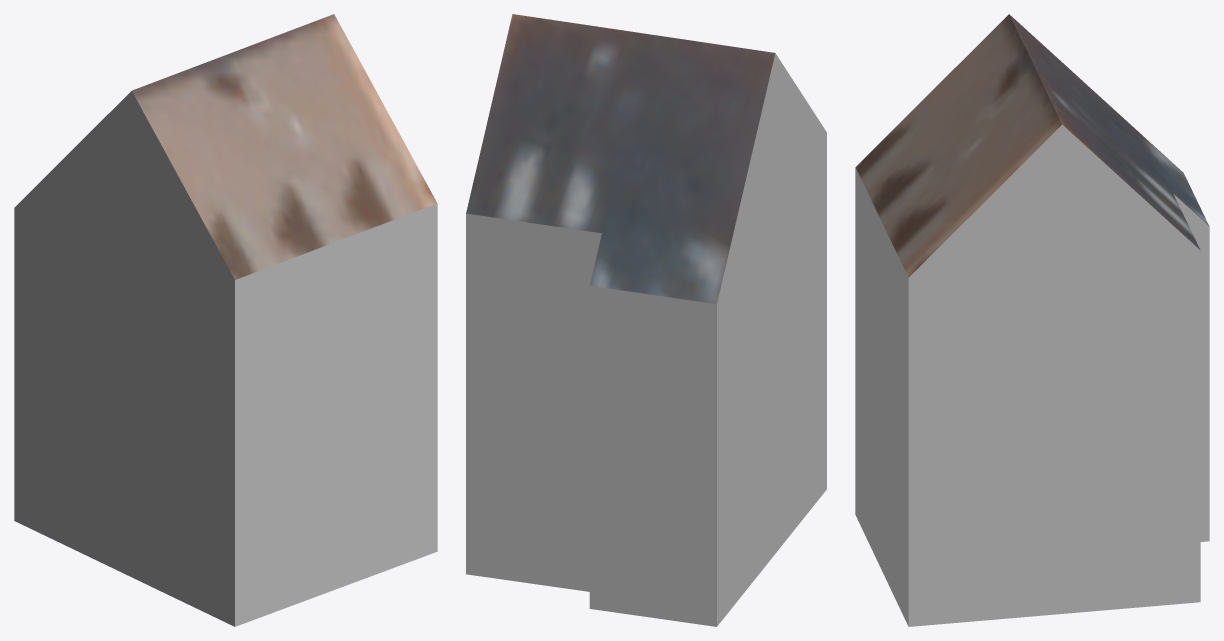
The model's file is DEBW_0010007Tx3D.gltf.
3 views of the same model, side by side, from view 1: azimuth 30°, elevation 25°; view 2: azimuth 150°, elevation 25°; view 3: azimuth 270°, elevation 25° (orthographic). The views are drawn at different scales.
Visible parts, largest first — view 1: Z_UP; view 2: Z_UP; view 3: Z_UP.
Part boxes in pixels (x1,y1,x2,y2): Z_UP: (14,14,437,626); Z_UP: (466,14,826,626); Z_UP: (855,14,1209,626).
Bounding box in the file's own units: 11.02 × 17.98 × 11.79.
Materials: 2 (1 with a texture image).
